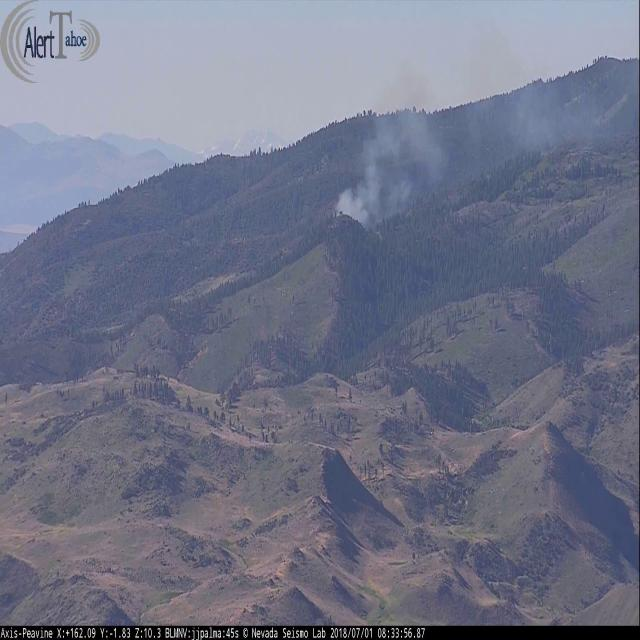smoke: (332, 59, 640, 241)
